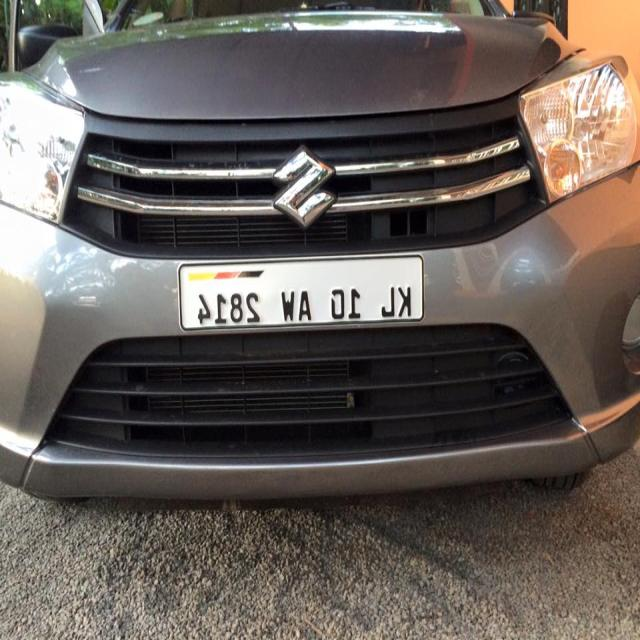number-plate: (184, 262, 415, 333)
